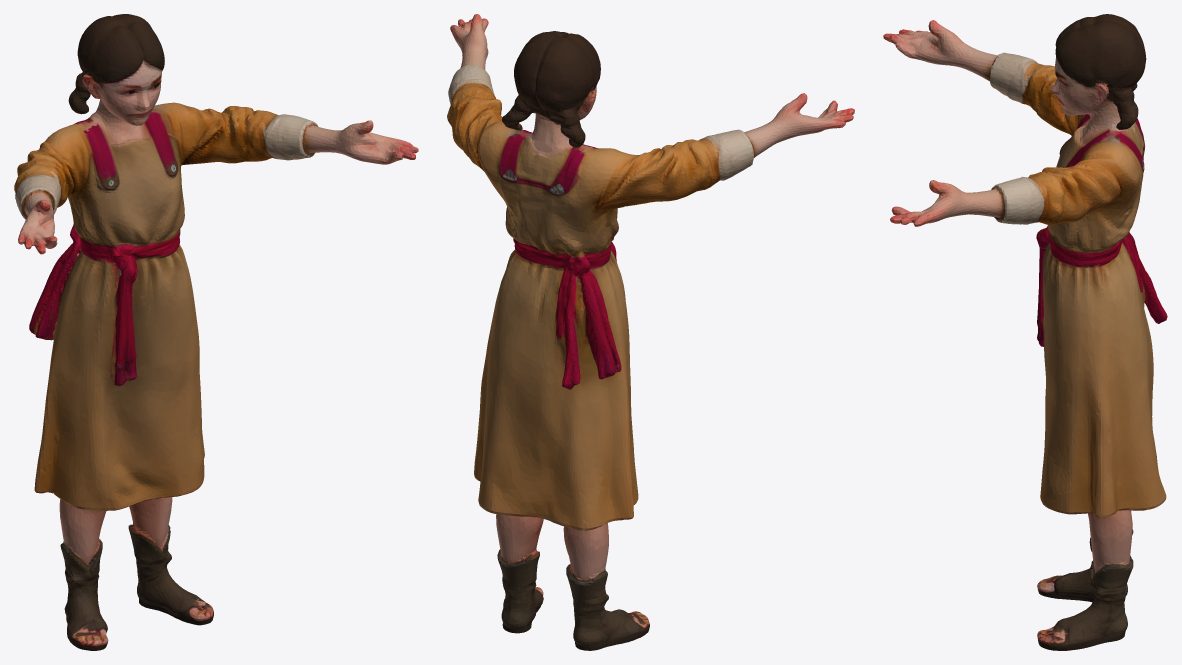
File: villager_weaver.glb
3 renders of one model, left to right at view 1: azimuth 30°, elevation 25°; view 2: azimuth 150°, elevation 25°; view 3: azimuth 270°, elevation 25°, orthographic.
Visible parts, largest first — view 1: textured_mesh.obj; view 2: textured_mesh.obj; view 3: textured_mesh.obj.
Part boxes in pixels (x1,y1,x2,y2): textured_mesh.obj: (14,14,418,650); textured_mesh.obj: (447,14,854,650); textured_mesh.obj: (883,14,1167,650).
Bounding box in the file's own units: 1.38 × 1.99 × 0.8541.
1 material, 1 textured.
